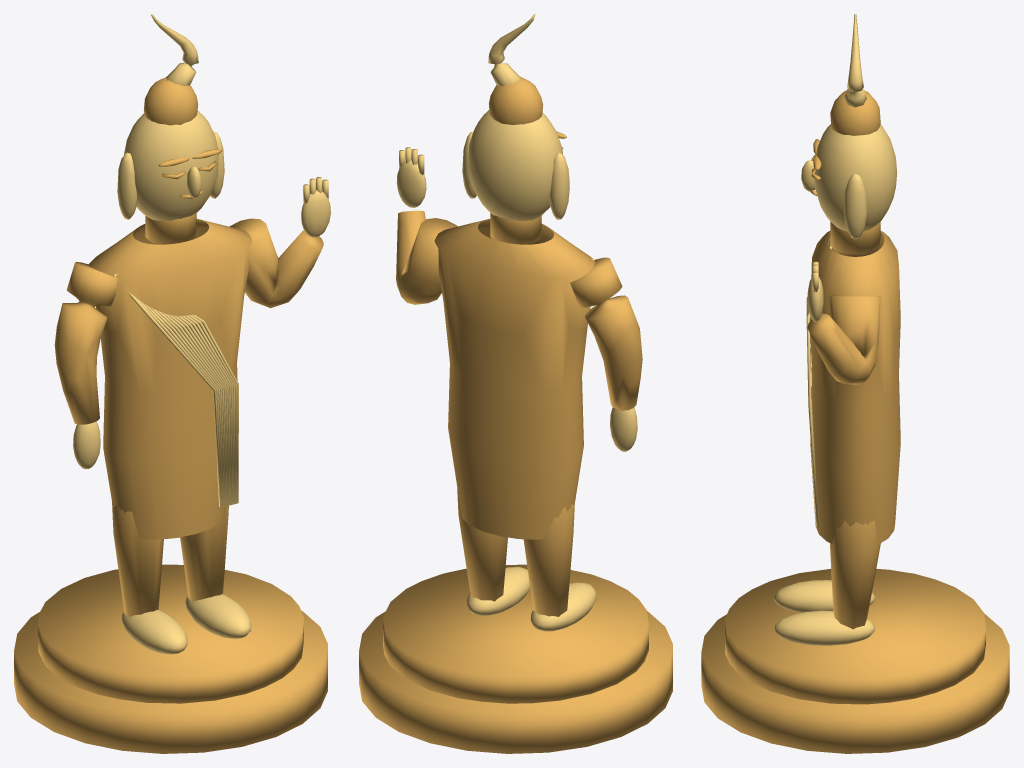
File: buddha-reassurance.glb
3 views of the same model, side by side, from view 1: azimuth 30°, elevation 25°; view 2: azimuth 150°, elevation 25°; view 3: azimuth 270°, elevation 25° (orthographic).
Parts seen in each view (by area): view 1: buddha-reassurance / Antique warm gold, buddha-reassurance / Raised gold ornament; view 2: buddha-reassurance / Antique warm gold, buddha-reassurance / Raised gold ornament; view 3: buddha-reassurance / Antique warm gold, buddha-reassurance / Raised gold ornament.
Boxes of the visible parts, x1=… form: buddha-reassurance / Antique warm gold: x1=14, y1=77, x2=327, y2=753; buddha-reassurance / Raised gold ornament: x1=73, y1=14, x2=330, y2=654; buddha-reassurance / Antique warm gold: x1=359, y1=77, x2=672, y2=753; buddha-reassurance / Raised gold ornament: x1=396, y1=14, x2=637, y2=631; buddha-reassurance / Antique warm gold: x1=701, y1=90, x2=1009, y2=753; buddha-reassurance / Raised gold ornament: x1=774, y1=14, x2=897, y2=645.
Bounding box in the file's own units: 1.72 × 4.05 × 1.7.
